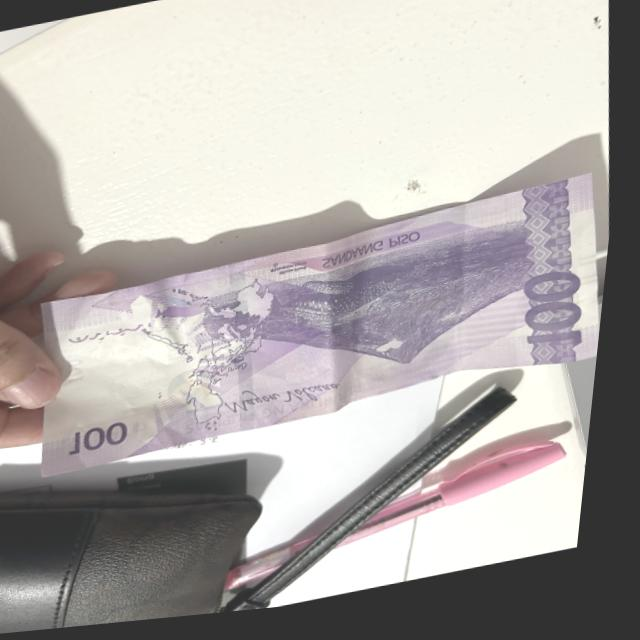100_whale: (259, 262, 434, 346)
100_whale_watermark: (158, 292, 225, 330)
value_watermark: (66, 354, 100, 392)
